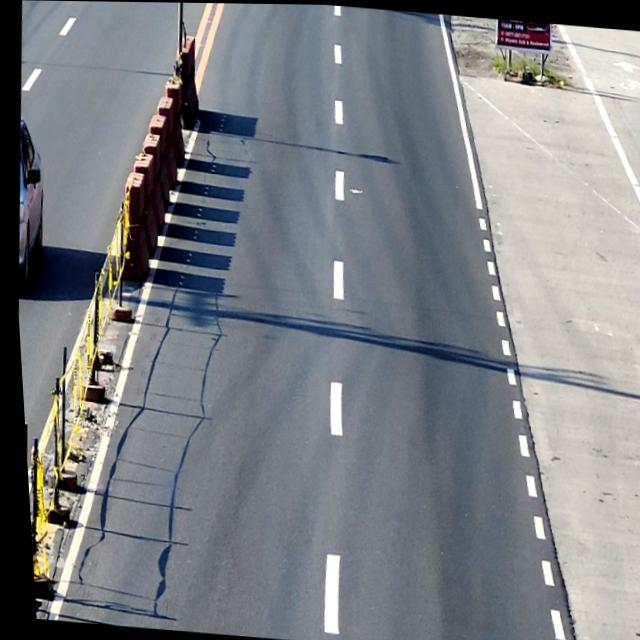Car: (7, 117, 52, 292)
